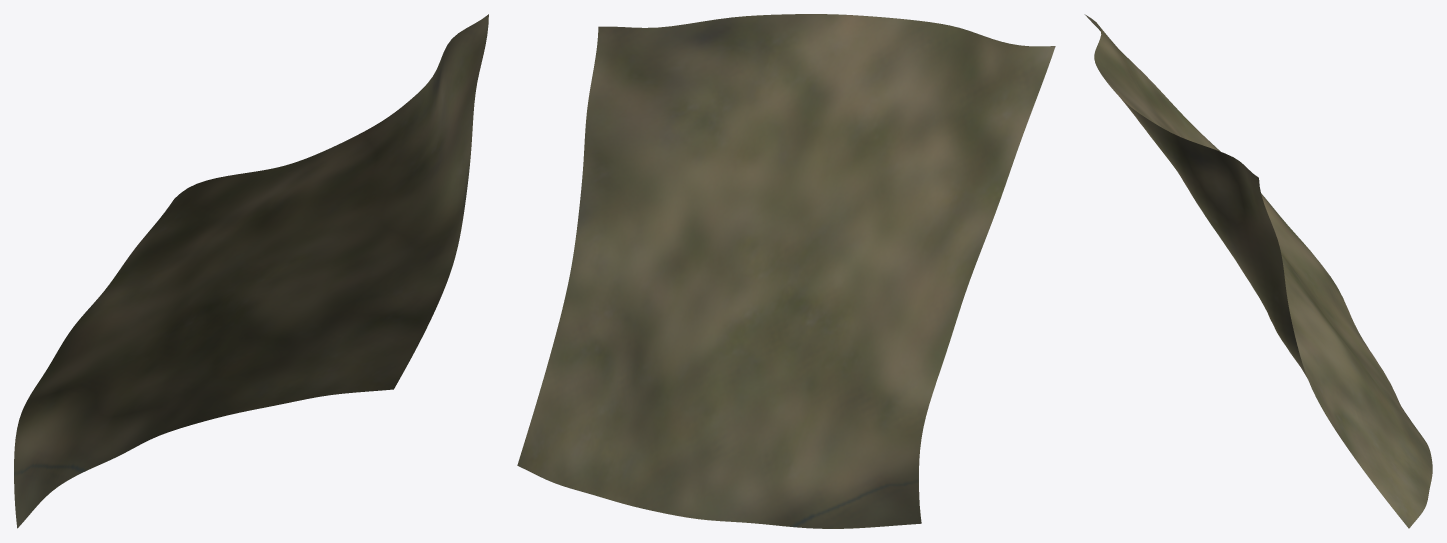
Rendered from ground_mid_01_03.obj.
3 views of the same model, side by side, from view 1: azimuth 30°, elevation 25°; view 2: azimuth 150°, elevation 25°; view 3: azimuth 270°, elevation 25° (orthographic). The views are drawn at different scales.
Parts seen in each view (by area): view 1: ground_mid_01_03; view 2: ground_mid_01_03; view 3: ground_mid_01_03.
Part boxes in pixels (x1,y1,x2,y2): ground_mid_01_03: (14, 14, 488, 528); ground_mid_01_03: (517, 14, 1055, 528); ground_mid_01_03: (1084, 14, 1432, 528).
Bounding box in the file's own units: 200 × 200 × 180.
Materials: 1 (1 with a texture image).
